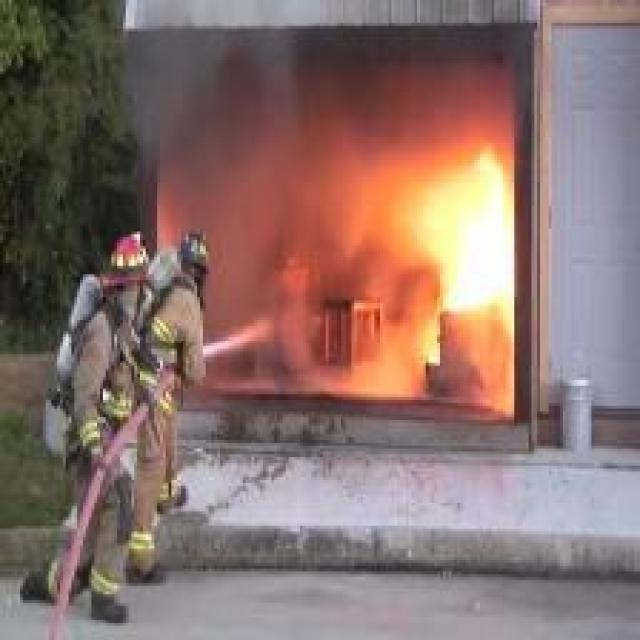fire: (378, 146, 514, 378)
smoke: (130, 26, 285, 152)
